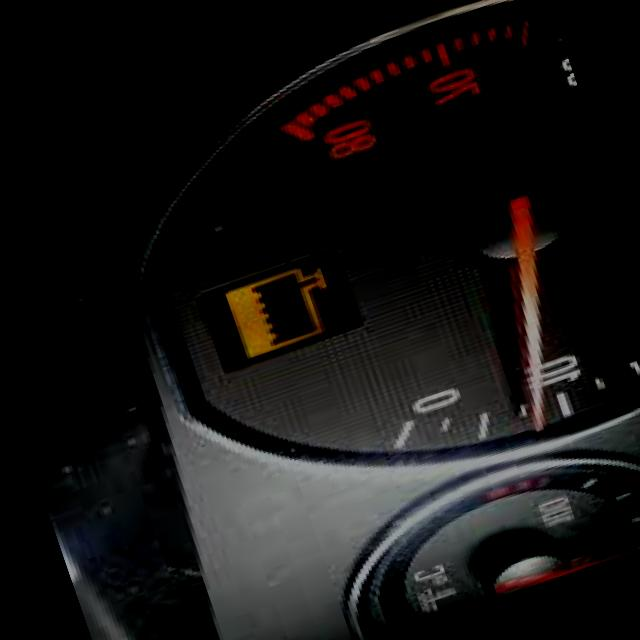kontrolka: (207, 246, 360, 369)
